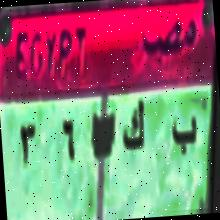3: (18, 116, 40, 175)
6: (60, 115, 79, 174)
baa: (168, 109, 200, 163)
kaaf: (118, 94, 150, 160)
